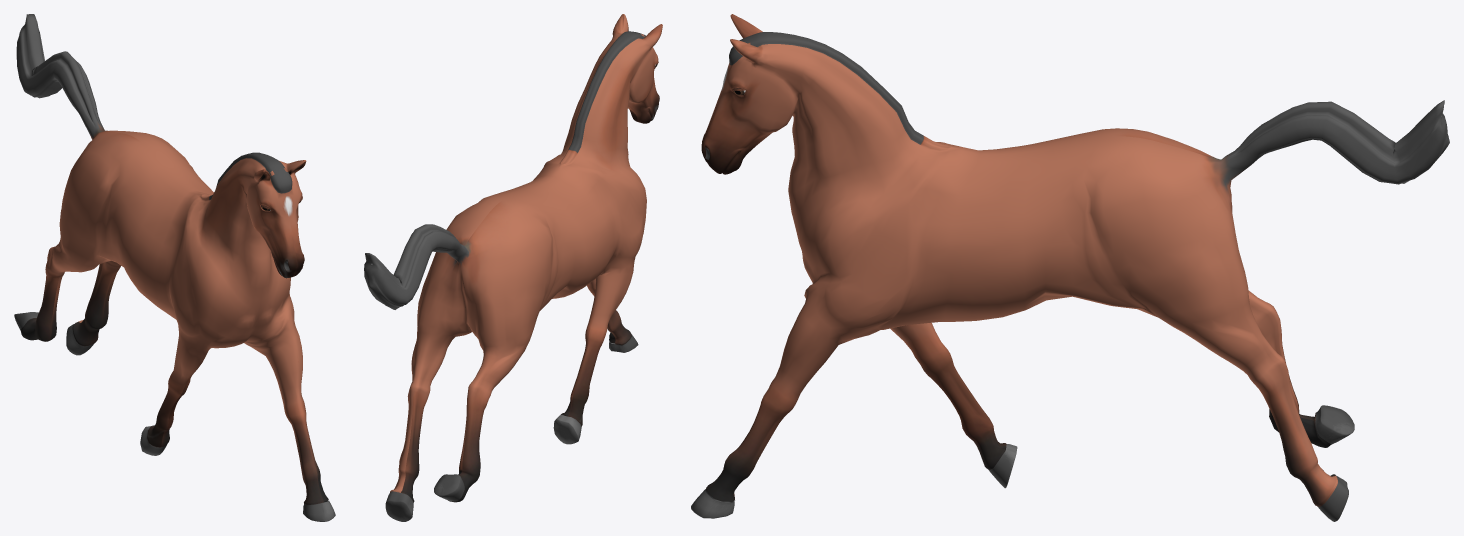
File: horse_obj_13.obj
3 renders of one model, left to right at view 1: azimuth 30°, elevation 25°; view 2: azimuth 150°, elevation 25°; view 3: azimuth 270°, elevation 25°, orthographic. The views are drawn at different scales.
Visible parts, largest first — view 1: Figure_1; view 2: Figure_1; view 3: Figure_1.
Part boxes in pixels (x1,y1,x2,y2): Figure_1: [14, 14, 335, 521]; Figure_1: [364, 14, 662, 521]; Figure_1: [691, 14, 1449, 521].
Bounding box in the file's own units: 0.2421 × 0.7945 × 1.14.
7 materials, 7 textured.
